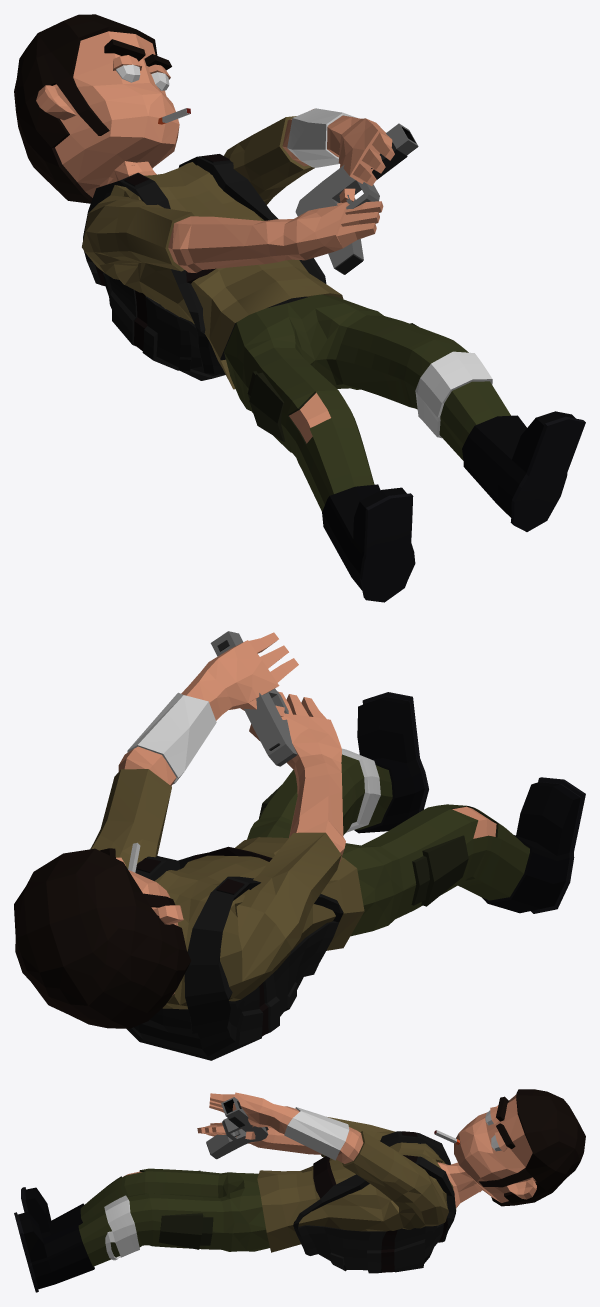
Rendered from frame_0085.obj.
The picture shows the model from 3 angles, top to bottom: view 1: azimuth 30°, elevation 25°; view 2: azimuth 150°, elevation 25°; view 3: azimuth 270°, elevation 25°; orthographic projection. The views are drawn at different scales.
Parts seen in each view (by area): view 1: Body, Gun; view 2: Body, Gun; view 3: Body, Gun.
Boxes of the visible parts, x1=… form: Body: x1=14, y1=14, x2=585, y2=602; Gun: x1=295, y1=123, x2=418, y2=274; Body: x1=14, y1=632, x2=585, y2=1060; Gun: x1=210, y1=631, x2=297, y2=766; Body: x1=14, y1=1089, x2=585, y2=1292; Gun: x1=206, y1=1097, x2=268, y2=1159.
Size of the model in its own units: 1.22 by 1.82 by 4.15.
